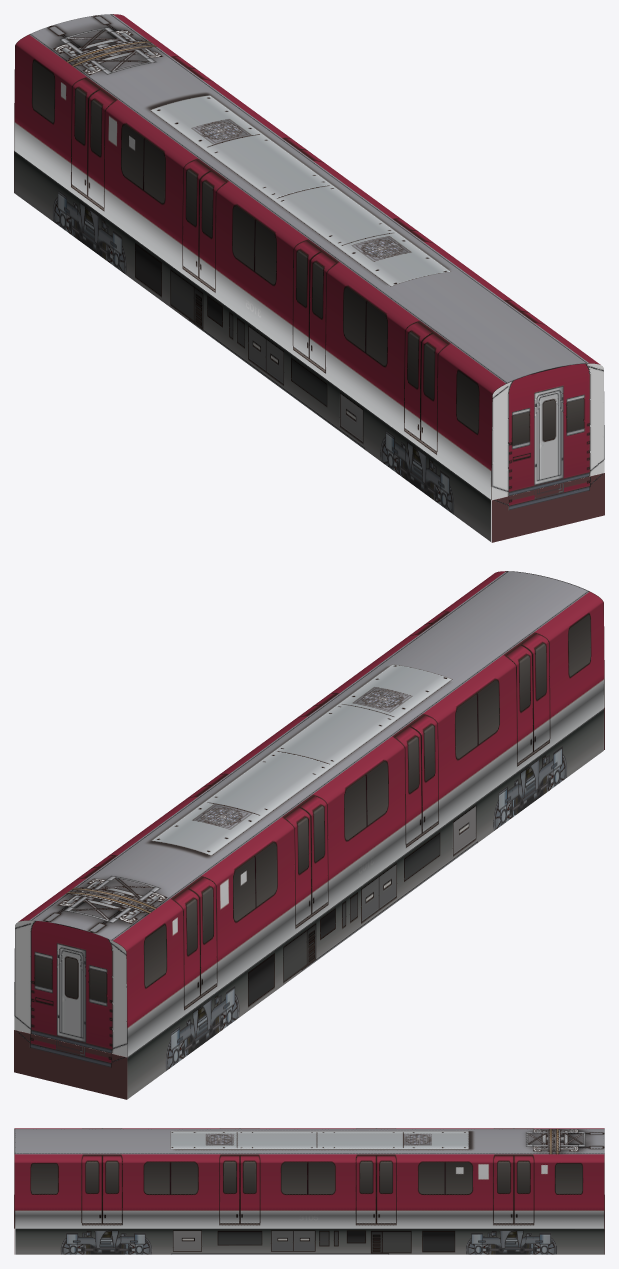
Rendered from car2.glb.
The picture shows the model from 3 angles, top to bottom: view 1: azimuth 30°, elevation 25°; view 2: azimuth 150°, elevation 25°; view 3: azimuth 270°, elevation 25°; orthographic projection. The views are drawn at different scales.
Parts seen in each view (by area): view 1: kintetsu-3200-car2; view 2: kintetsu-3200-car2; view 3: kintetsu-3200-car2.
Part boxes in pixels (x1=…): kintetsu-3200-car2: x1=14, y1=14, x2=604, y2=542; kintetsu-3200-car2: x1=14, y1=571, x2=604, y2=1099; kintetsu-3200-car2: x1=14, y1=1128, x2=604, y2=1254.
Size of the model in its own units: 2.8 by 3.77 by 20.53.
Materials: 8 (7 with a texture image).
